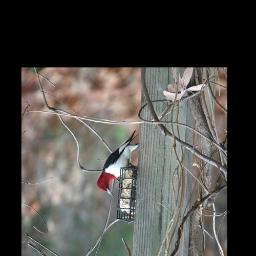Woodpecker: (93, 128, 143, 199)
